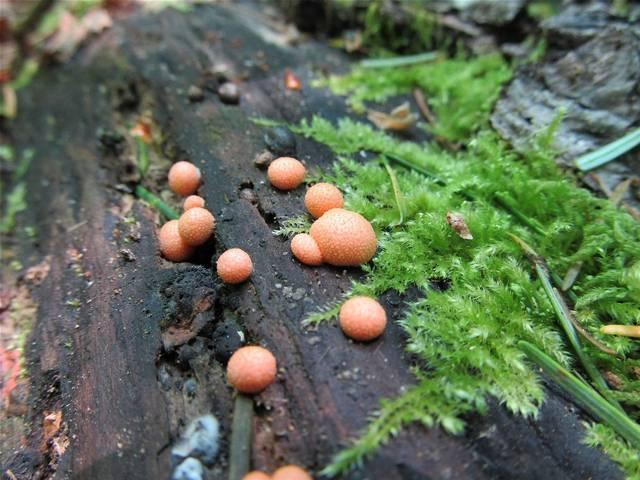poisonous_mushroom: (308, 207, 377, 266), (225, 344, 277, 394), (337, 294, 387, 341), (157, 219, 193, 261), (177, 206, 215, 245), (303, 181, 344, 217), (215, 246, 253, 283), (266, 155, 305, 190), (166, 159, 201, 195), (289, 232, 322, 265)
